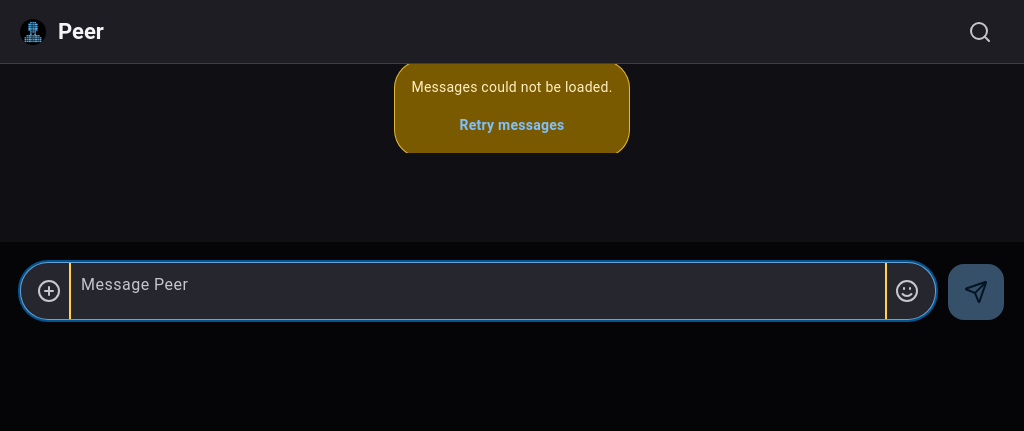
Test case: DmView message containment › does not show or mark an empty conversation after a failed hydration and retries
The width and height of the screenshot is (1024, 431).
Expected: the text "Nothing here yet" is not shown
Step 1. Click the button "Retry messages" → (512, 124), box [448,108,576,140]
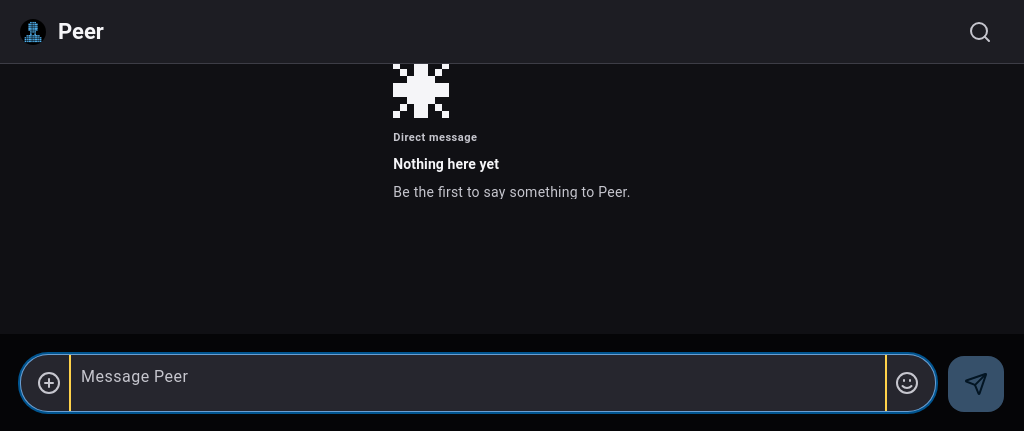
Now the text "Nothing here yet" is shown, box [393,154,499,174]
